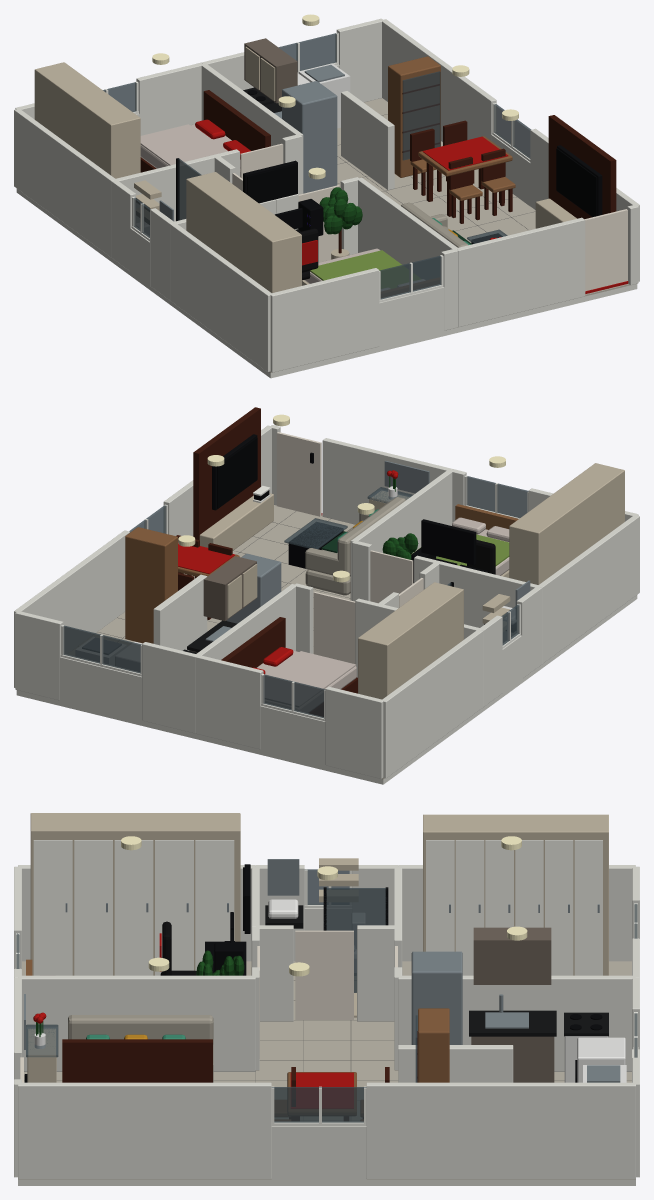
Rendered from apartamento.obj.
3 views of the same model, one above another, from view 1: azimuth 30°, elevation 25°; view 2: azimuth 150°, elevation 25°; view 3: azimuth 270°, elevation 25° (orthographic). The views are drawn at different scales.
Parts seen in each view (by area): view 1: decor_parede_gelo, decor_armario_creme, decor_madeira_mogno, decor_vidro_fume, decor_madeira_clara, piso_ceramico, decor_porta_branca, decor_inox, decor_colcha_clara, decor_metal_preto, decor_vermelho, cama_setup_coberta (+7 smaller); view 2: decor_parede_gelo, decor_armario_creme, decor_vidro_fume, decor_porta_branca, decor_madeira_mogno, decor_madeira_clara, decor_colcha_clara, decor_metal_preto, piso_ceramico, decor_inox, decor_sofa_areia, decor_moldura_branca (+7 smaller); view 3: decor_parede_gelo, decor_moldura_branca, decor_armario_creme, piso_ceramico, decor_vidro_fume, decor_madeira_mogno, decor_inox, decor_cozinha_taupe, decor_porta_branca, decor_madeira_clara, decor_louca_branca, decor_sofa_areia (+6 smaller).
Boxes of the visible parts, x1,y1,x2,y2 form: decor_parede_gelo: [14, 18, 639, 378]; decor_armario_creme: [34, 46, 576, 292]; decor_madeira_mogno: [140, 84, 616, 253]; decor_vidro_fume: [103, 33, 531, 299]; decor_madeira_clara: [381, 56, 515, 297]; piso_ceramico: [269, 98, 629, 372]; decor_porta_branca: [232, 143, 627, 291]; decor_inox: [159, 64, 344, 221]; decor_colcha_clara: [140, 124, 424, 290]; decor_metal_preto: [176, 90, 602, 244]; decor_vermelho: [195, 119, 628, 293]; cama_setup_coberta: [310, 250, 420, 288]; decor_parede_gelo: [14, 425, 639, 784]; decor_armario_creme: [199, 463, 624, 699]; decor_vidro_fume: [63, 476, 528, 718]; decor_porta_branca: [276, 432, 423, 663]; decor_madeira_mogno: [176, 407, 357, 716]; decor_madeira_clara: [125, 504, 518, 643]; decor_colcha_clara: [257, 517, 509, 712]; decor_metal_preto: [189, 434, 487, 653]; piso_ceramico: [68, 505, 384, 779]; decor_inox: [82, 460, 530, 654]; decor_sofa_areia: [305, 497, 405, 595]; decor_moldura_branca: [60, 475, 528, 721]; decor_parede_gelo: [14, 865, 639, 1185]; decor_moldura_branca: [15, 840, 638, 1125]; decor_armario_creme: [27, 813, 608, 1082]; piso_ceramico: [18, 961, 635, 1179]; decor_vidro_fume: [16, 869, 637, 1122]; decor_madeira_mogno: [62, 1031, 417, 1120]; decor_inox: [24, 859, 620, 1082]; decor_cozinha_taupe: [471, 927, 554, 1082]; decor_porta_branca: [20, 930, 397, 1082]; decor_madeira_clara: [26, 959, 449, 1120]; decor_louca_branca: [34, 899, 626, 1082]; decor_sofa_areia: [68, 1015, 213, 1082].
Size of the model in its own units: 6.6 by 2.55 by 7.9.
